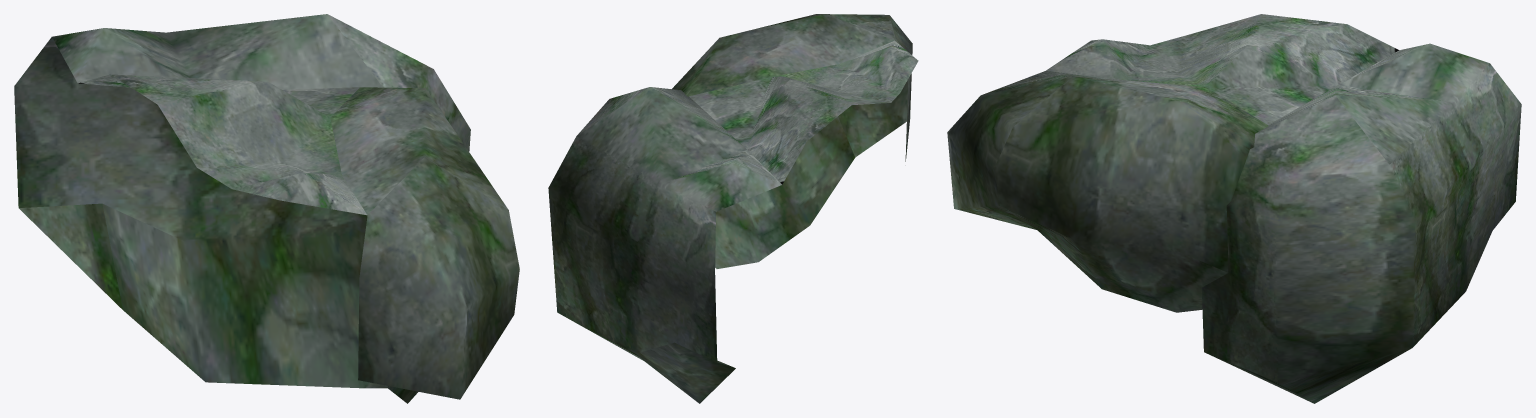
Rendered from SC001Jshanshi_21.FBX.
3 renders of one model, left to right at view 1: azimuth 30°, elevation 25°; view 2: azimuth 150°, elevation 25°; view 3: azimuth 270°, elevation 25°, orthographic. The views are drawn at different scales.
Parts seen in each view (by area): view 1: SC001Jshanshi_21; view 2: SC001Jshanshi_21; view 3: SC001Jshanshi_21.
Boxes of the visible parts, x1,y1,x2,y2 form: SC001Jshanshi_21: (14, 14, 519, 403); SC001Jshanshi_21: (548, 14, 918, 403); SC001Jshanshi_21: (947, 14, 1521, 403).
Size of the model in its own units: 3.59 by 3.87 by 6.69.
